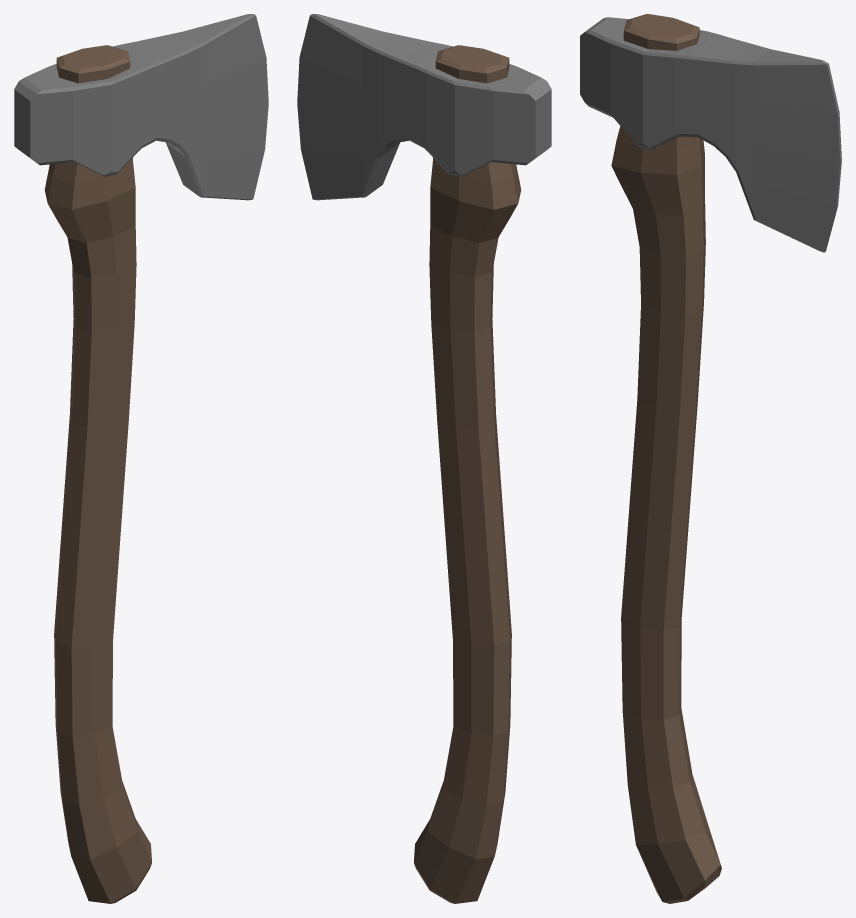
The model's file is Lumberjack_s Axe.fbx.
3 views of the same model, side by side, from view 1: azimuth 30°, elevation 25°; view 2: azimuth 150°, elevation 25°; view 3: azimuth 330°, elevation 25° (orthographic). The views are drawn at different scales.
Visible parts, largest first — view 1: Lumberjack's Axe; view 2: Lumberjack's Axe; view 3: Lumberjack's Axe.
Boxes of the visible parts, x1,y1,x2,y2 form: Lumberjack's Axe: [14, 14, 268, 903]; Lumberjack's Axe: [297, 14, 551, 903]; Lumberjack's Axe: [580, 14, 841, 903].
Bounding box in the file's own units: 56.59 × 187 × 14.49.
